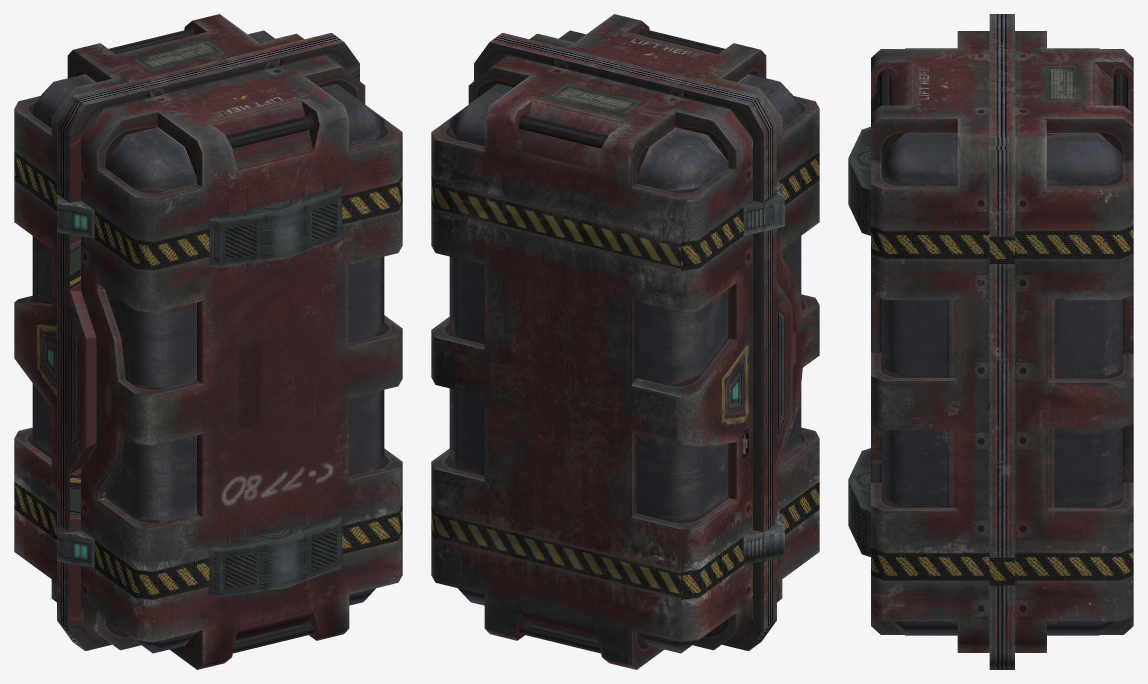
File: t6_wpn_supply_drop_axis_LOD1.obj
The picture shows the model from 3 angles, left to right: view 1: azimuth 30°, elevation 25°; view 2: azimuth 150°, elevation 25°; view 3: azimuth 270°, elevation 25°; orthographic projection. The views are drawn at different scales.
Visible parts, largest first — view 1: mtl_t6_wpn_supply_drop_axis; view 2: mtl_t6_wpn_supply_drop_axis; view 3: mtl_t6_wpn_supply_drop_axis.
Part boxes in pixels (x1,y1,x2,y2): mtl_t6_wpn_supply_drop_axis: (14,14,402,669); mtl_t6_wpn_supply_drop_axis: (431,14,819,669); mtl_t6_wpn_supply_drop_axis: (848,14,1133,669).
Bounding box in the file's own units: 107 × 187 × 90.68.
